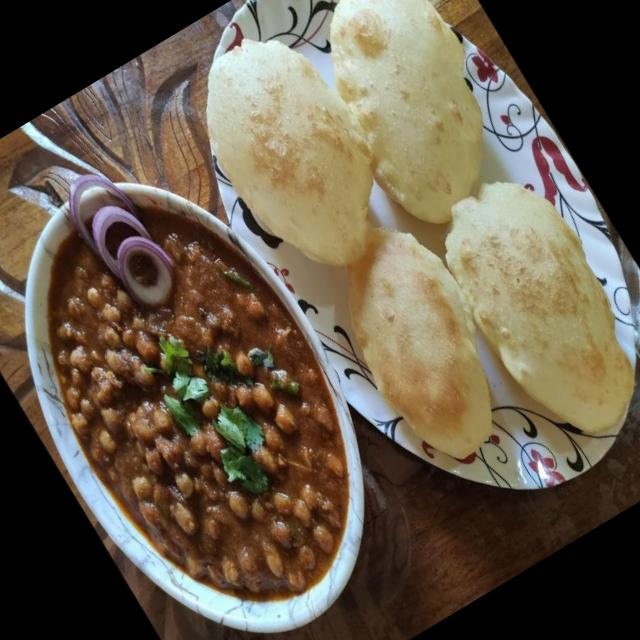Bhatura: (171, 0, 640, 534)
Chole: (0, 184, 399, 638)
